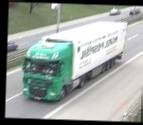truck: (21, 16, 131, 108)
